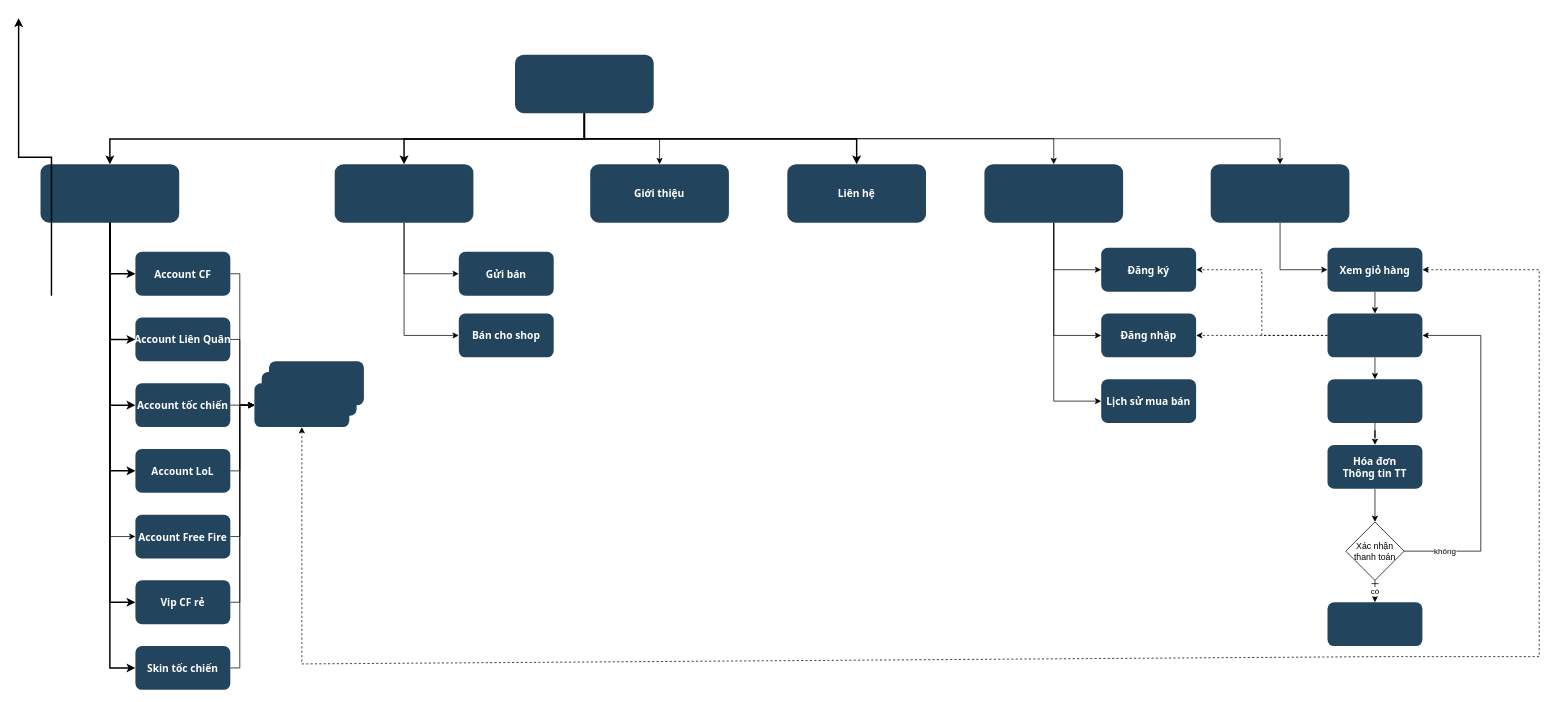
The diagram is 1559 pixels wide and 702 high, and some of its shapes have lost their labels. The shapes that lost their labels are listed below. From the top down, each one's centre as x and y in pixels, then its label:
(x=584, y=83): Home
(x=109, y=193): Danh mục
(x=403, y=193): Rao bán
(x=1053, y=193): Tài khoản
(x=1279, y=193): Giỏ hàng
(x=1374, y=335): Thông tin nhận (email, sdt)
(x=301, y=405): Chi tiết Account/ Vật phẩm
(x=1374, y=401): Phương thức thanh toán
(x=1374, y=624): Thanh toán thành công
